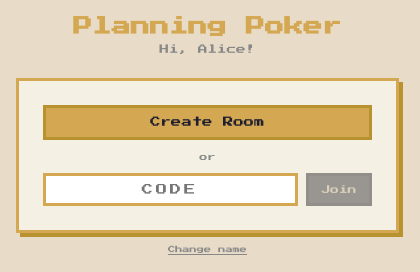
Test: Landing — create + join › clicking Create Room reveals the Player / Manager role picker
Click the button "Create Room": (208, 122) [43,105,372,140]
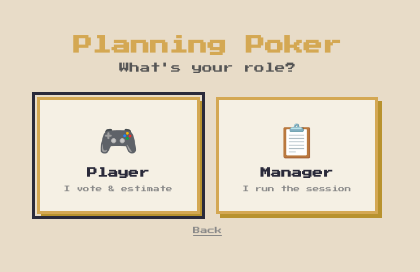
Check: the button "🎮 Player I vote & estimate" is shown, box [37,97,200,214]
Check: the button "📋 Manager I run the session" is shown, box [216,97,378,214]
